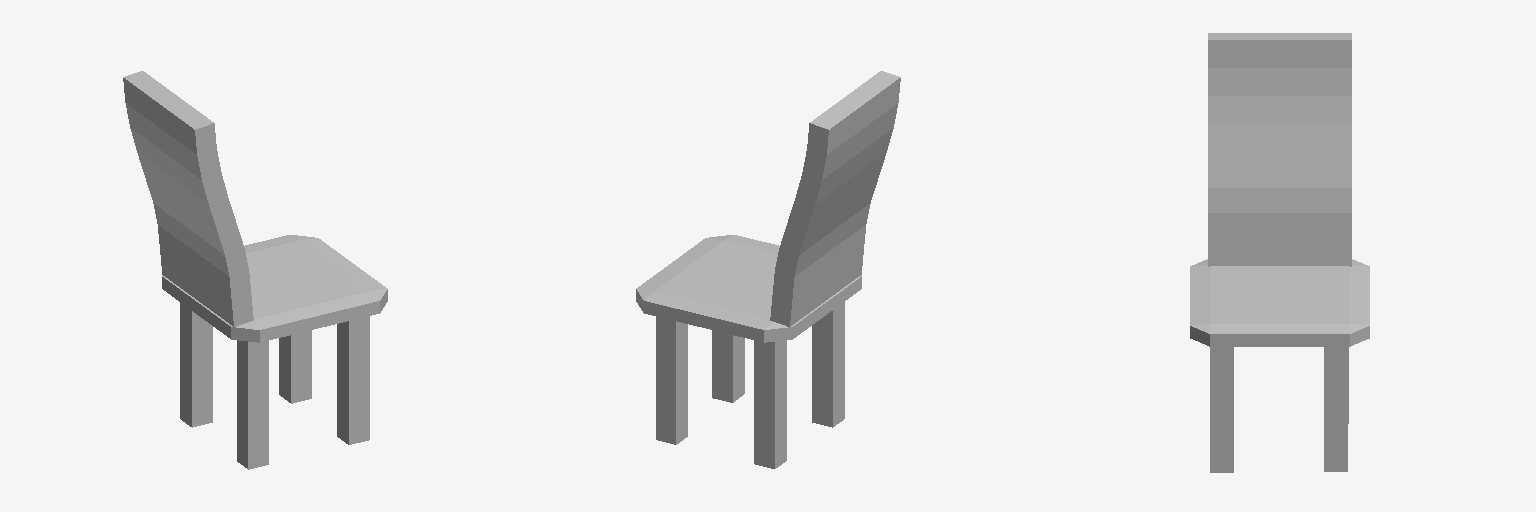
Rendered from diner chair.obj.
3 renders of one model, left to right at view 1: azimuth 30°, elevation 25°; view 2: azimuth 150°, elevation 25°; view 3: azimuth 270°, elevation 25°, orthographic.
Visible parts, largest first — view 1: Cube.001, Cube, Plane.001_Plane.004, Plane.003, Plane.004_Plane.006, Plane.002_Plane.005; view 2: Cube.001, Cube, Plane.004_Plane.006, Plane.002_Plane.005, Plane.003, Plane.001_Plane.004; view 3: Cube.001, Cube, Plane.001_Plane.004, Plane.002_Plane.005.
Part boxes in pixels (x1,y1,x2,y2): Cube.001: (123, 71, 253, 326); Cube: (162, 235, 387, 342); Plane.001_Plane.004: (337, 316, 369, 444); Plane.003: (237, 340, 268, 469); Plane.004_Plane.006: (180, 302, 212, 427); Plane.002_Plane.005: (279, 330, 311, 403); Cube.001: (770, 71, 900, 326); Cube: (636, 235, 861, 342); Plane.004_Plane.006: (754, 340, 786, 468); Plane.002_Plane.005: (656, 316, 687, 444); Plane.003: (812, 302, 844, 427); Plane.001_Plane.004: (712, 330, 744, 402); Cube.001: (1208, 33, 1351, 266); Cube: (1190, 259, 1369, 346); Plane.001_Plane.004: (1210, 347, 1233, 472); Plane.002_Plane.005: (1324, 347, 1347, 471).
Size of the model in its own units: 0.9913 by 1.74 by 0.8.